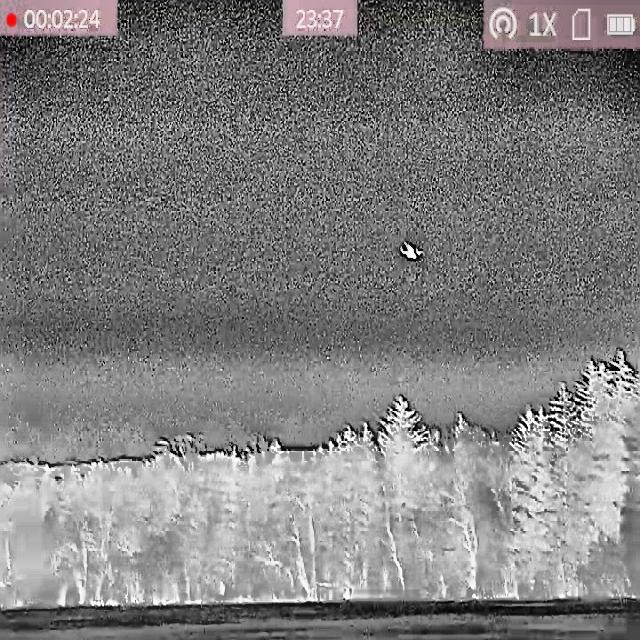drone: (399, 240, 423, 262)
